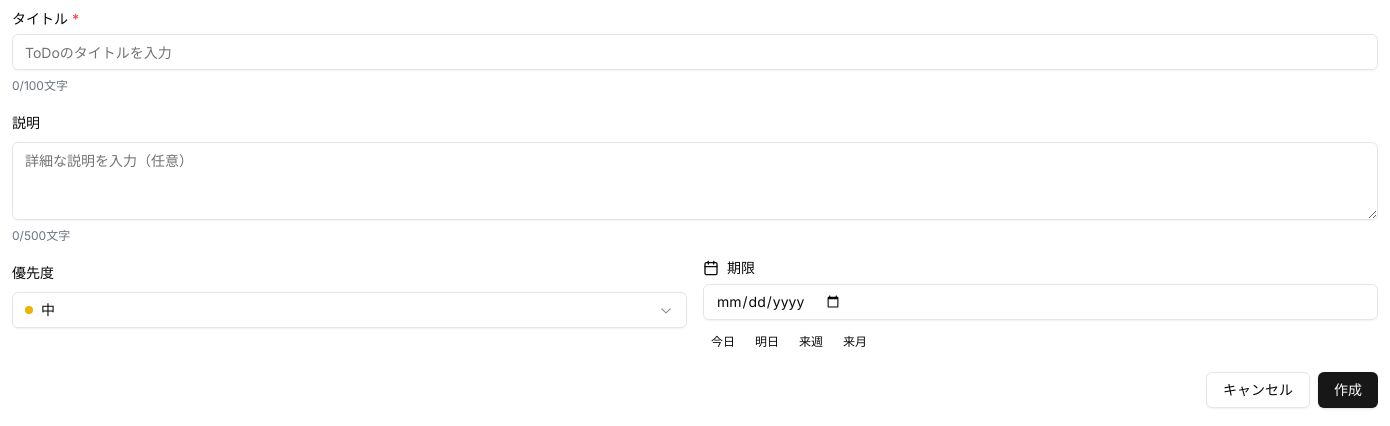
Scenario: TodoForm › Date Presets › sets tomorrow's date when clicking tomorrow button
The image size is (1390, 426).
Click the button "明日" at (767, 342), box 747,328 -> 787,356
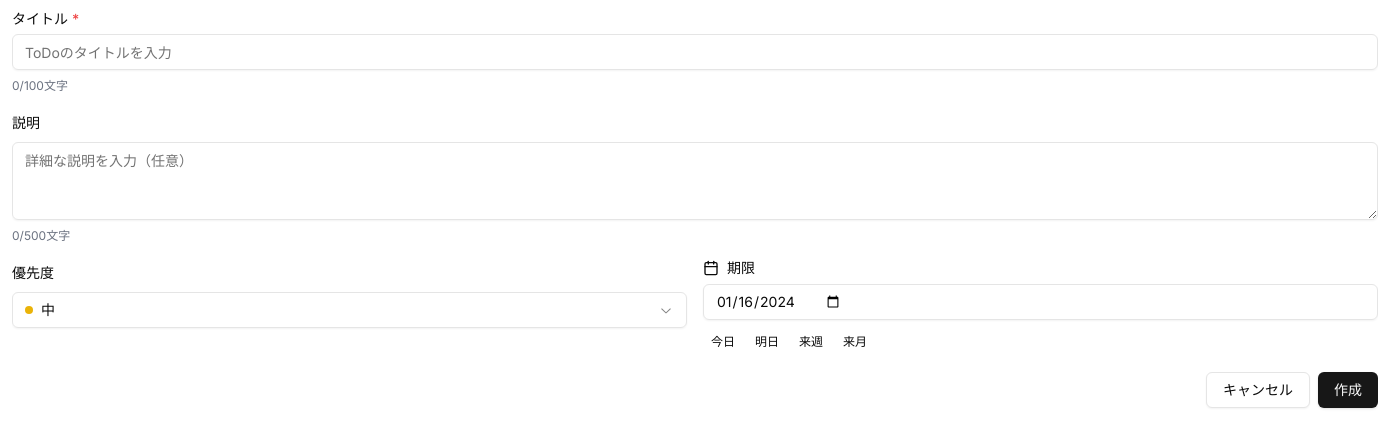
Expected: the date field labelled "期限" holds "2024-01-16", 703,284 -> 1378,320
